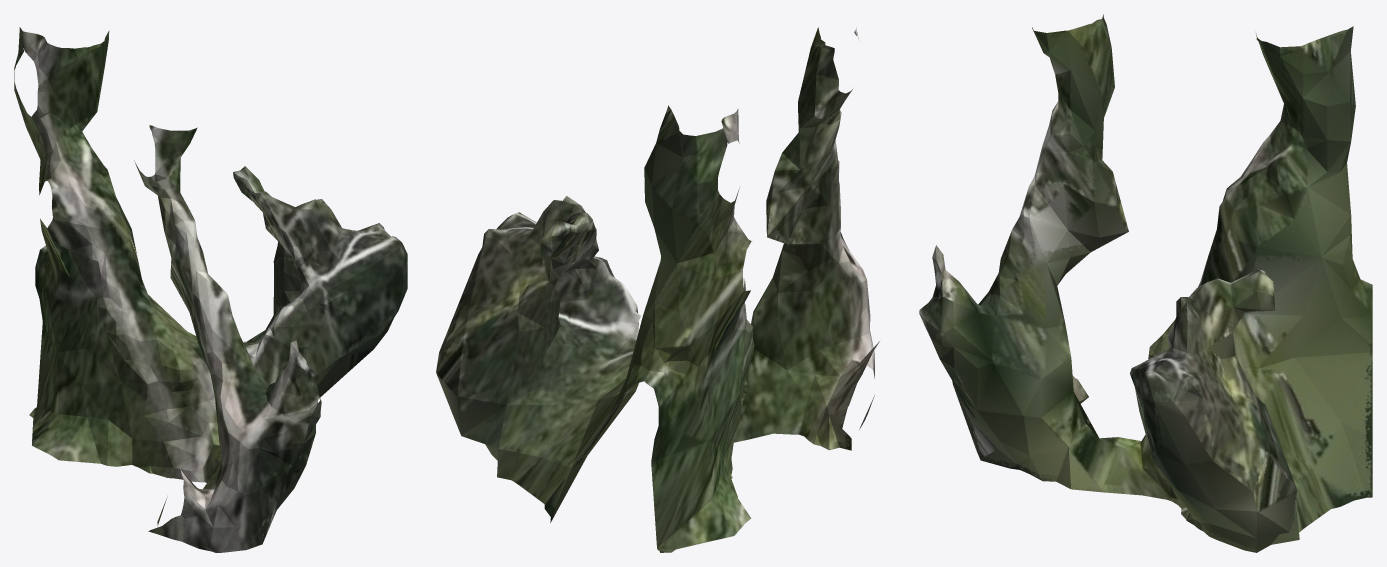
3 views of the same model, side by side, from view 1: azimuth 30°, elevation 25°; view 2: azimuth 150°, elevation 25°; view 3: azimuth 270°, elevation 25° (orthographic).
Size of the model in its own units: 4.78 by 5.9 by 5.9.
5 materials, 5 textured.
